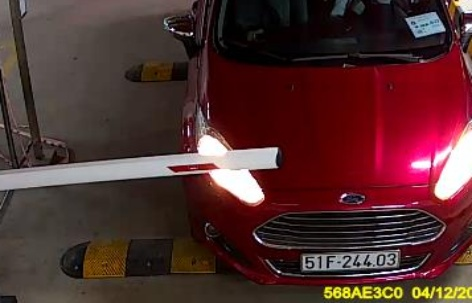plate: (299, 246, 399, 274)
